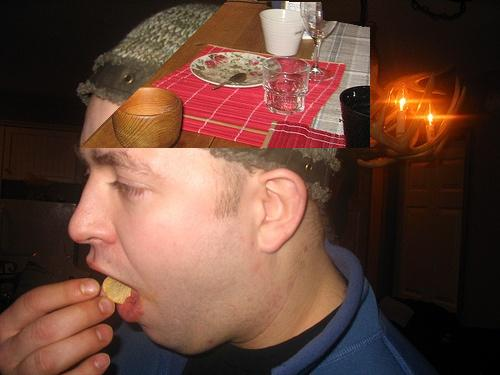tampered: (80, 1, 370, 148)
